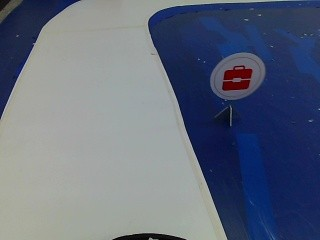company: (210, 48, 263, 101)
